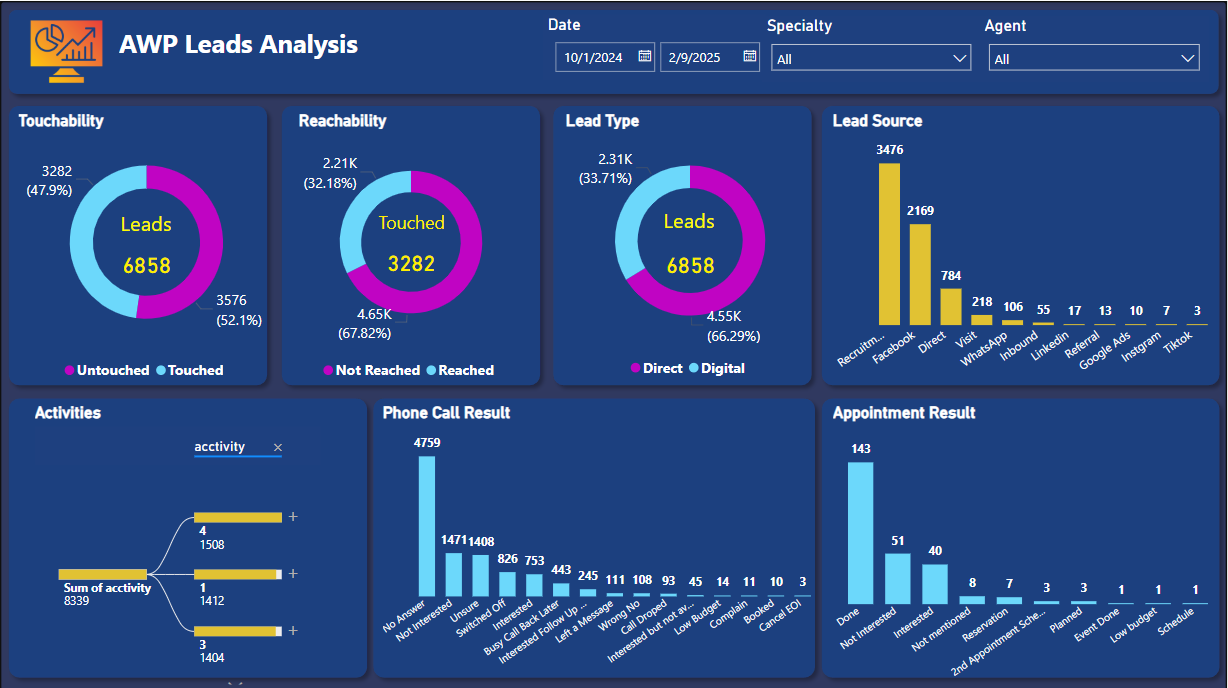

The dashboard page shown, as its layout file describes it:
{"tool":"powerbi","page":{"name":"Summary","canvas":[1680,720],"ordinal":0},"visuals":[{"type":"shape","box":[0,0,1679.3,105.3],"z":0},{"type":"shape","box":[1134.8,103.3,544.5,310],"z":1000},{"type":"columnChart","title":"Lead Source","fields":{"Category":["new awp leads.Lead Source"],"Y":["CountNonNull(new awp leads.Lead Source)"]},"box":[1156.7,117.3,522.7,296.1],"z":2000},{"type":"shape","box":[1112,404,568,310],"z":3000},{"type":"shape","box":[0,405.4,473,310],"z":4000},{"type":"shape","box":[464,406,658,310],"z":5000},{"type":"columnChart","title":"Phone Call Result","fields":{"Category":["new awp leads.Last Reached Call Result"],"Y":["CountNonNull(new awp leads.Last Reached Call Result)"]},"box":[488,422,638,284],"z":6000},{"type":"columnChart","title":"Appointment Result","fields":{"Category":["new awp leads.Appointment Result"],"Y":["CountNonNull(new awp leads.Appointment Result)"]},"box":[1132,422,546,284],"z":7000},{"type":"shape","box":[783,103.3,351.8,310],"z":8000},{"type":"shape","box":[401.5,103.3,381.6,310],"z":9000},{"type":"shape","box":[0,103.3,401.5,310],"z":10000},{"type":"donutChart","title":"Lead Type","fields":{"Y":["CountNonNull(new awp leads.Lead Classification)"],"Category":["new awp leads.Lead Classification"]},"box":[800.9,119.2,327.9,282.2],"z":11000},{"type":"donutChart","title":"Reachability","fields":{"Category":["new awp leads.reachability"],"Y":["CountNonNull(new awp leads.reachability)"]},"box":[419.3,119.2,371.6,286.2],"z":12000},{"type":"donutChart","title":"Touchability","fields":{"Category":["new awp leads.Touchability"],"Y":["CountNonNull(new awp leads.Touchability)"]},"box":[31.8,119.2,327.9,284.2],"z":13000},{"type":"card","title":"Leads","fields":{"Values":["new awp leads.total_leads"]},"box":[123.2,220.6,149.1,107.3],"z":14000},{"type":"textbox","box":[165,210.7,131.2,65.6],"z":15000},{"type":"card","title":"Leads","fields":{"Values":["new awp leads.total_leads"]},"box":[532.6,218.6,149.1,107.3],"z":16000},{"type":"textbox","box":[566.4,212.7,133.2,65.6],"z":17000},{"type":"card","title":"Leads","fields":{"Values":["new awp leads.total_leads"]},"box":[890.4,218.6,151,107.3],"z":18000},{"type":"textbox","box":[934.1,206.7,133.2,65.6],"z":19000},{"type":"image","box":[20.5,3.2,97.9,99.5],"z":20000},{"type":"textbox","box":[121.2,23.8,373.6,67.6],"z":21000},{"type":"slicer","title":"Speciality","fields":{"Values":["new awp leads.Speciality"]},"box":[1383.4,16,239.1,68.8],"z":23000},{"type":"slicer","title":"Agent","fields":{"Values":["new awp leads.Owner"]},"box":[1156.8,16,228.2,68.8],"z":24000},{"type":"slicer","title":"Date","fields":{"Values":["new awp leads.Created On"]},"box":[928,14.5,232.1,67.9],"z":25000},{"type":"actionButton","box":[711.5,23.8,143.1,57.6],"z":26000},{"type":"actionButton","box":[570.4,23.8,143.1,57.6],"z":27000},{"type":"donutChart","title":"Phone call results","fields":{"Category":["new awp leads.Last Call Status"],"Y":["CountNonNull(new awp leads.Last Call Status)"]},"box":[24,422,426,284],"z":27001}]}

Visuals, with their boxes on the page's 1680x720 design canvas (x1, y1, x2, y2). These are canvas units, not pixel positions in the 1228x688 screenshot, which may show the page scaled, cropped or inside an application window:
shape: bbox(0, 0, 1679, 105)
shape: bbox(1135, 103, 1679, 413)
"Lead Source" columnChart: bbox(1157, 117, 1679, 413)
shape: bbox(1112, 404, 1680, 714)
shape: bbox(0, 405, 473, 715)
shape: bbox(464, 406, 1122, 716)
"Phone Call Result" columnChart: bbox(488, 422, 1126, 706)
"Appointment Result" columnChart: bbox(1132, 422, 1678, 706)
shape: bbox(783, 103, 1135, 413)
shape: bbox(402, 103, 783, 413)
shape: bbox(0, 103, 402, 413)
"Lead Type" donutChart: bbox(801, 119, 1129, 401)
"Reachability" donutChart: bbox(419, 119, 791, 405)
"Touchability" donutChart: bbox(32, 119, 360, 403)
"Leads" card: bbox(123, 221, 272, 328)
textbox: bbox(165, 211, 296, 276)
"Leads" card: bbox(533, 219, 682, 326)
textbox: bbox(566, 213, 700, 278)
"Leads" card: bbox(890, 219, 1041, 326)
textbox: bbox(934, 207, 1067, 272)
image: bbox(20, 3, 118, 103)
textbox: bbox(121, 24, 495, 91)
"Speciality" slicer: bbox(1383, 16, 1622, 85)
"Agent" slicer: bbox(1157, 16, 1385, 85)
"Date" slicer: bbox(928, 14, 1160, 82)
actionButton: bbox(712, 24, 855, 81)
actionButton: bbox(570, 24, 714, 81)
"Phone call results" donutChart: bbox(24, 422, 450, 706)
